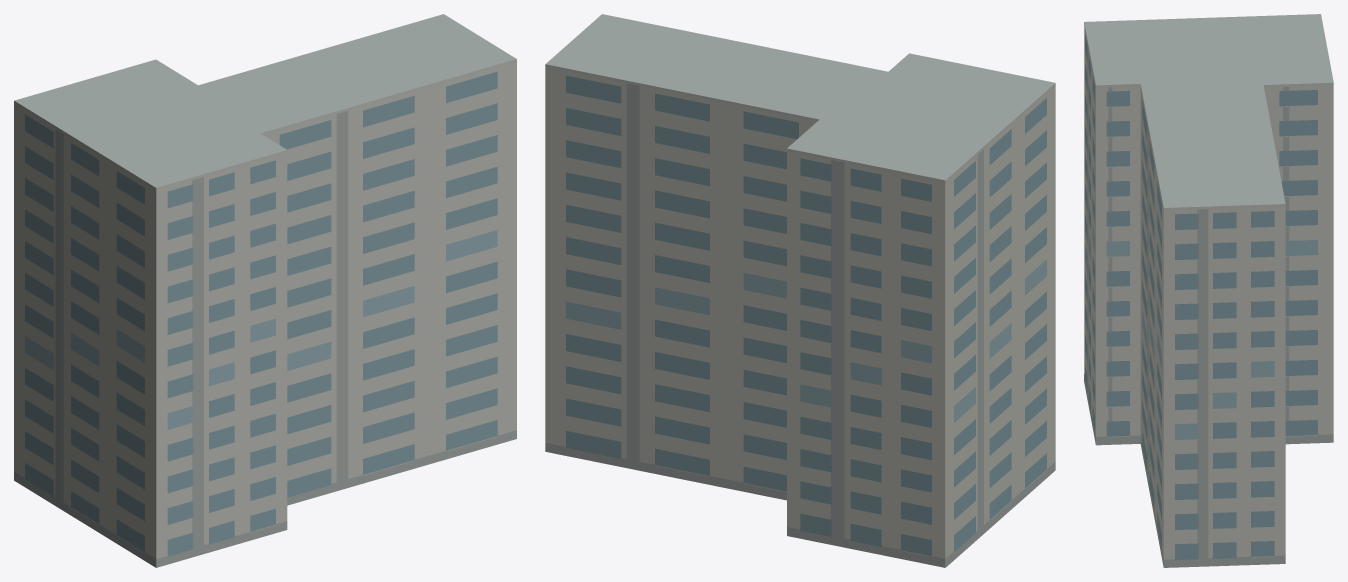
Rendered from residential-05759d47-34e6-4794-8826-094d71883ed7.glb.
3 renders of one model, left to right at view 1: azimuth 30°, elevation 25°; view 2: azimuth 150°, elevation 25°; view 3: azimuth 270°, elevation 25°, orthographic. The views are drawn at different scales.
Visible parts, largest first — view 1: residential-05759d47-34e6-4794-8826-094d71883ed7.tmp; view 2: residential-05759d47-34e6-4794-8826-094d71883ed7.tmp; view 3: residential-05759d47-34e6-4794-8826-094d71883ed7.tmp.
Boxes of the visible parts, box(x1,y1,x2,y2) form: residential-05759d47-34e6-4794-8826-094d71883ed7.tmp: box(14, 14, 516, 567); residential-05759d47-34e6-4794-8826-094d71883ed7.tmp: box(545, 14, 1055, 567); residential-05759d47-34e6-4794-8826-094d71883ed7.tmp: box(1084, 14, 1333, 567).
Size of the model in its own units: 40.47 by 35 by 22.01.
